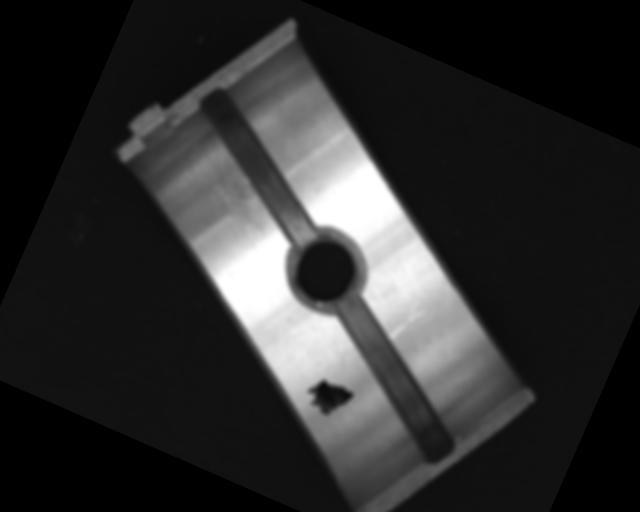blot: (300, 373, 355, 422)
gap: (298, 290, 492, 466), (162, 82, 353, 246)
hole: (275, 217, 377, 322)
nick: (386, 295, 428, 350)
scratch: (184, 145, 289, 239)
